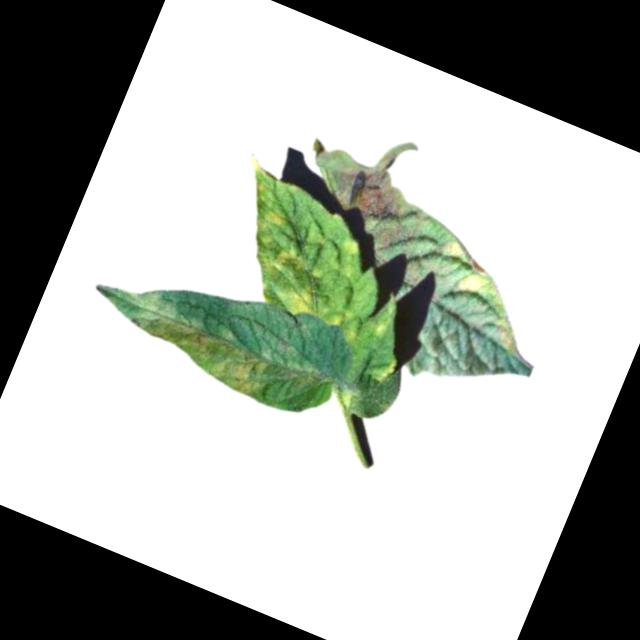Leaf_Mold: (77, 270, 283, 402), (415, 233, 548, 354), (282, 277, 329, 323), (267, 239, 316, 282), (254, 204, 288, 235)
